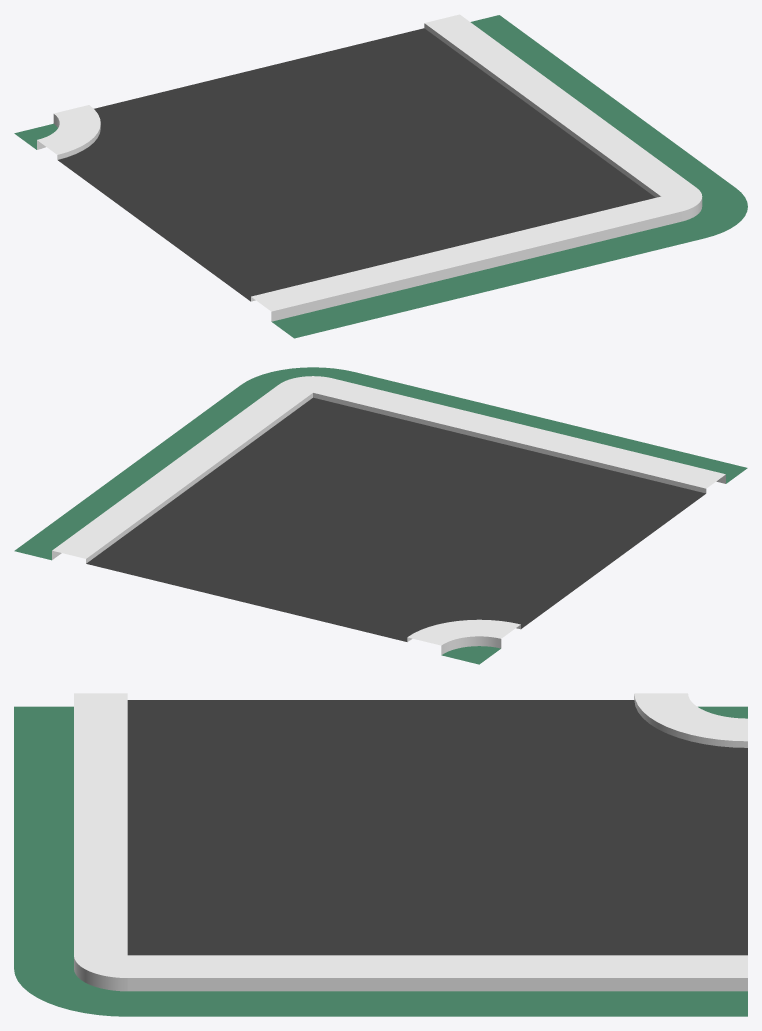
Rendered from roadCornerSmallSquare.obj.
3 views of the same model, one above another, from view 1: azimuth 30°, elevation 25°; view 2: azimuth 150°, elevation 25°; view 3: azimuth 270°, elevation 25° (orthographic). The views are drawn at different scales.
Visible parts, largest first — view 1: roadCornerSmallSquare; view 2: roadCornerSmallSquare; view 3: roadCornerSmallSquare.
Part boxes in pixels (x1=…): roadCornerSmallSquare: x1=14, y1=14, x2=747, y2=338; roadCornerSmallSquare: x1=14, y1=367, x2=747, y2=664; roadCornerSmallSquare: x1=14, y1=693, x2=747, y2=1016.
Size of the model in its own units: 1 by 0.02 by 1.
